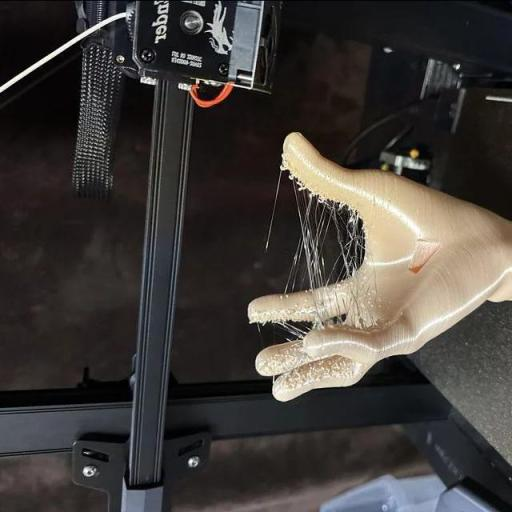stringing: (282, 167, 341, 324), (281, 189, 316, 295), (328, 199, 365, 280), (278, 320, 313, 343)
